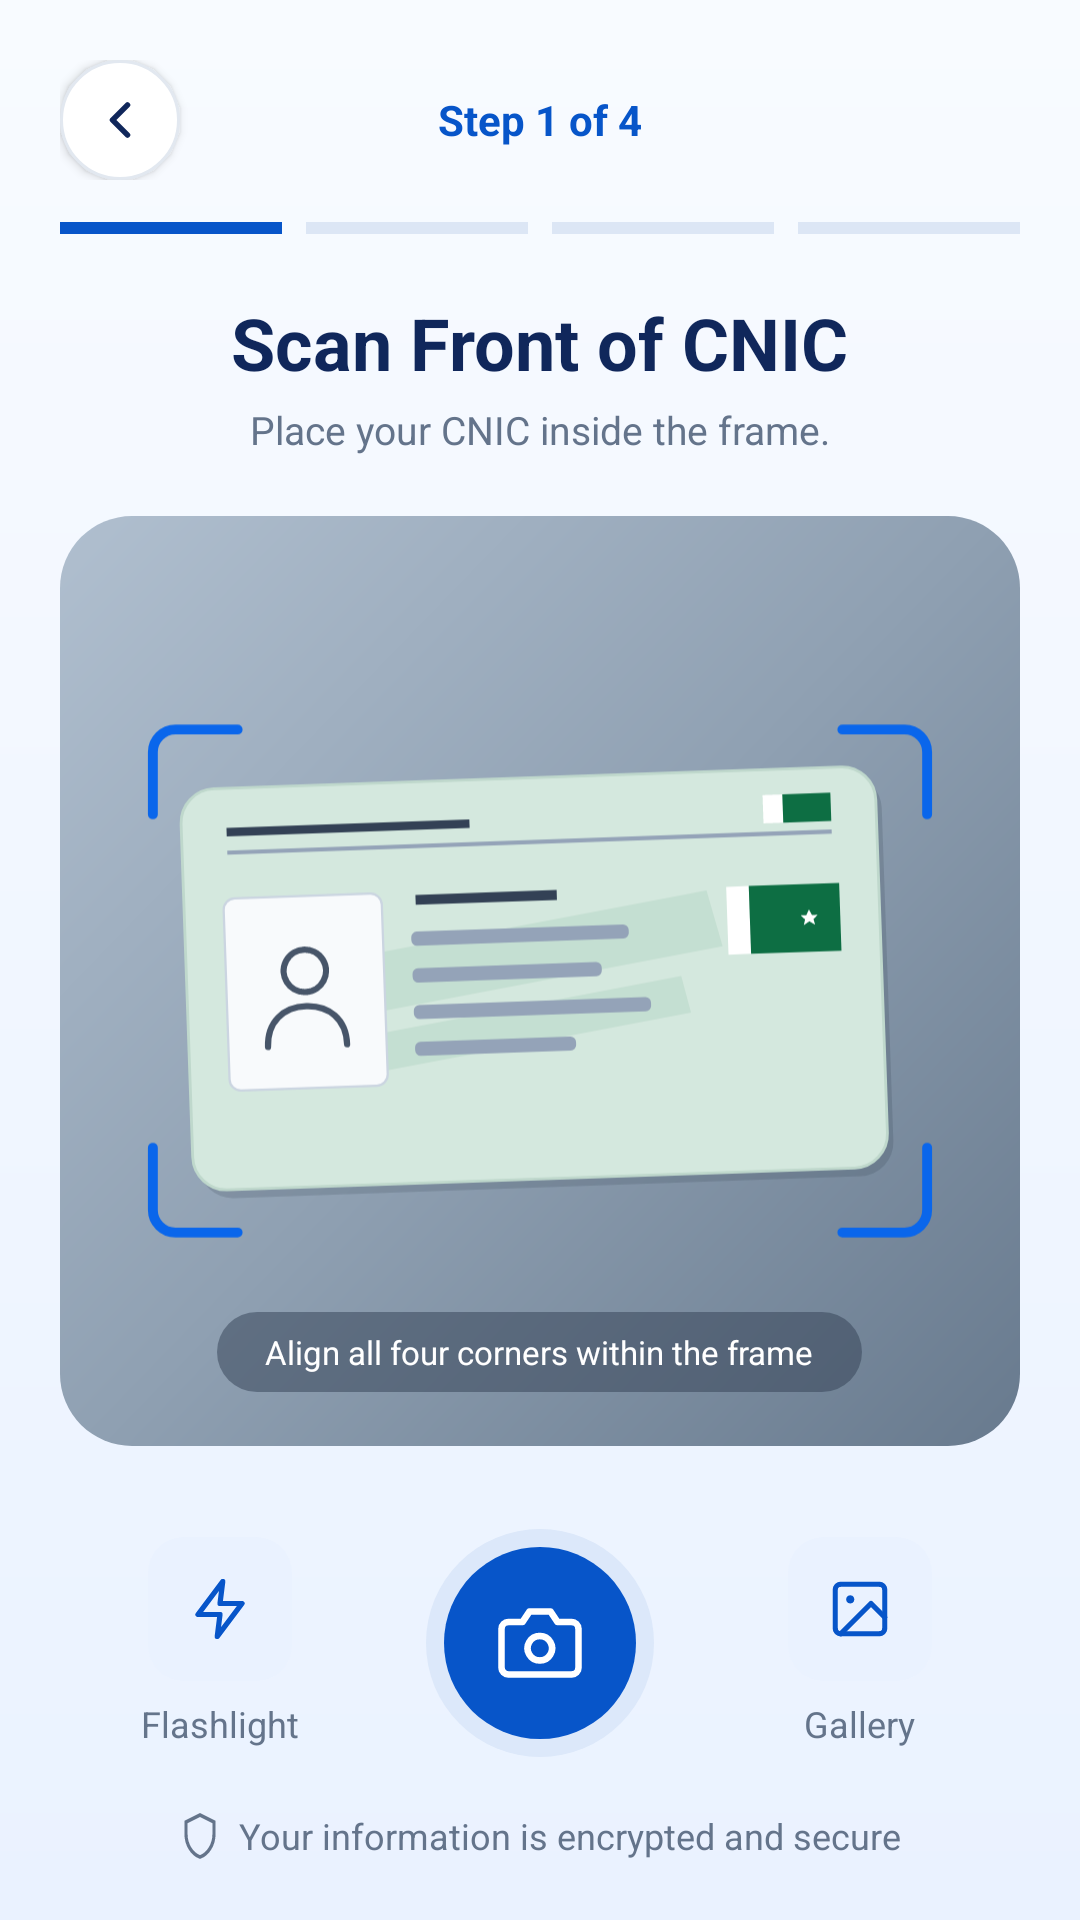

Point at icon controls on the screen. Image size 1080 × 1920, points as (x=x, y=y).
Back: (x=120, y=120)
Capture CNIC Front: (x=540, y=1643)
